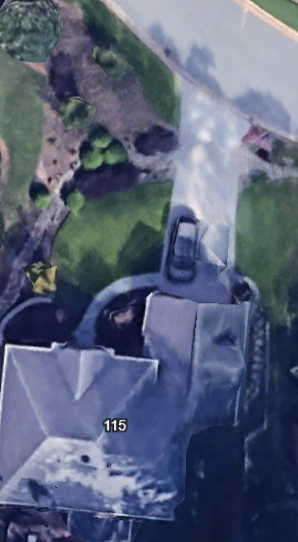driveway: (157, 83, 251, 305)
